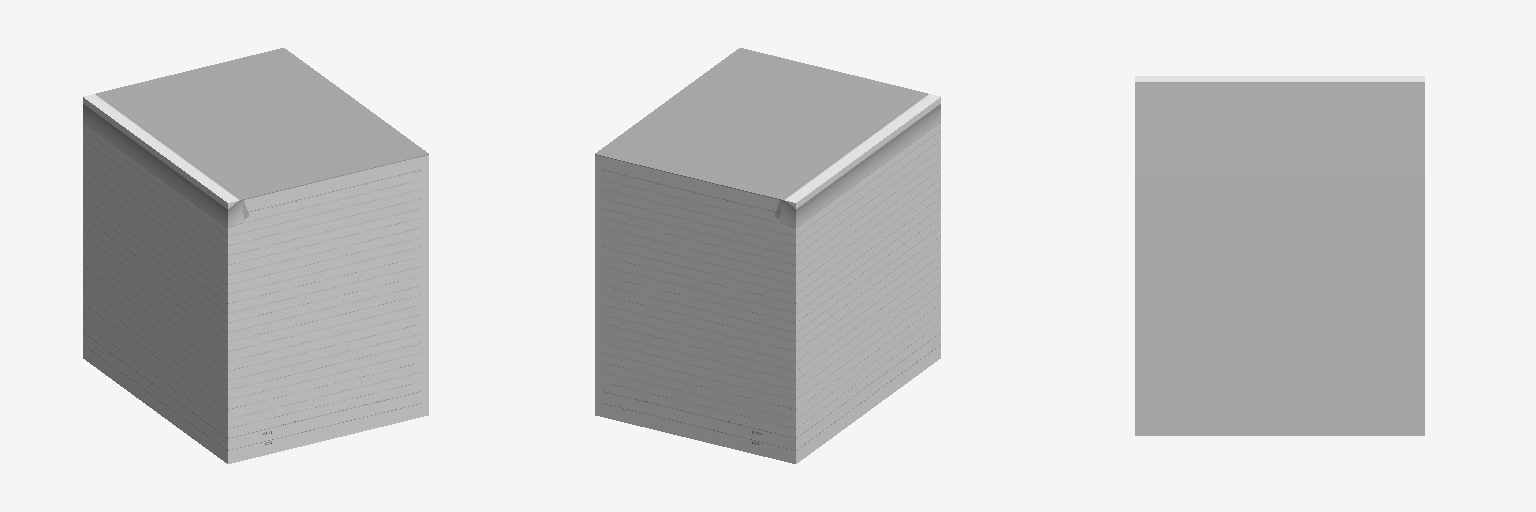
3 renders of one model, left to right at view 1: azimuth 30°, elevation 25°; view 2: azimuth 150°, elevation 25°; view 3: azimuth 270°, elevation 25°, orthographic.
Size of the model in its own units: 160 by 198 by 200.
1 materials, 1 textured.